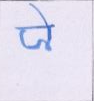o_matra: (40, 11, 54, 51)
